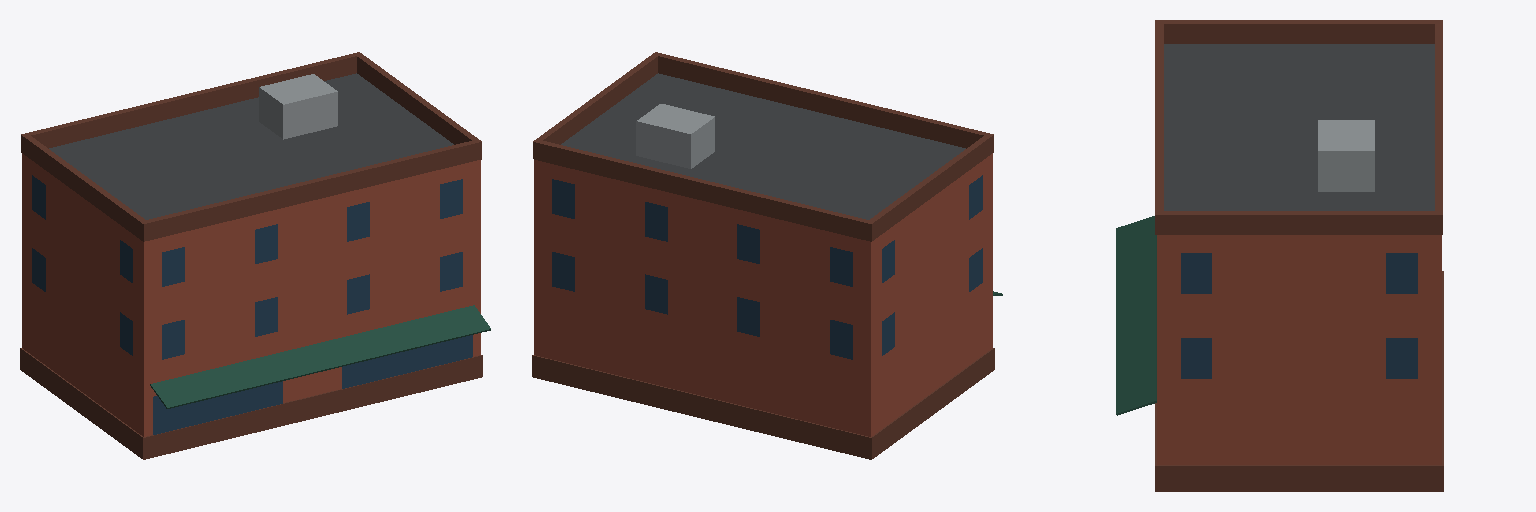
robot.urdf — building_04:
<?xml version="1.0" encoding="utf-8"?>
<!-- Generated by tools/generate_assets.py -->
<robot name="building_04">
  <link name="base_link">
    <inertial>
      <mass value="0" />
      <inertia ixx="0" ixy="0" ixz="0" iyy="0" iyz="0" izz="0" />
    </inertial>
    <visual name="part_0">
      <geometry><mesh filename="meshes/building_04_v0.obj" /></geometry>
      <material name="building_04_0"><color rgba="0.6 0.34 0.27 1" /></material>
    </visual>
    <visual name="part_1">
      <geometry><mesh filename="meshes/building_04_v1.obj" /></geometry>
      <material name="building_04_1"><color rgba="0.42 0.27 0.22 1" /></material>
    </visual>
    <visual name="part_2">
      <geometry><mesh filename="meshes/building_04_v2.obj" /></geometry>
      <material name="building_04_2"><color rgba="0.3 0.31 0.32 1" /></material>
    </visual>
    <visual name="part_3">
      <geometry><mesh filename="meshes/building_04_v3.obj" /></geometry>
      <material name="building_04_3"><color rgba="0.6 0.62 0.63 1" /></material>
    </visual>
    <visual name="part_4">
      <geometry><mesh filename="meshes/building_04_v4.obj" /></geometry>
      <material name="building_04_4"><color rgba="0.2 0.3 0.38 1" /></material>
    </visual>
    <visual name="part_5">
      <geometry><mesh filename="meshes/building_04_v5.obj" /></geometry>
      <material name="building_04_5"><color rgba="0.25 0.2 0.15 1" /></material>
    </visual>
    <visual name="part_6">
      <geometry><mesh filename="meshes/building_04_v6.obj" /></geometry>
      <material name="building_04_6"><color rgba="0.2 0.35 0.3 1" /></material>
    </visual>
    <collision name="hull_0">
      <geometry><mesh filename="meshes/building_04_c0.obj" /></geometry>
    </collision>
    <collision name="hull_1">
      <geometry><mesh filename="meshes/building_04_c1.obj" /></geometry>
    </collision>
    <collision name="hull_2">
      <geometry><mesh filename="meshes/building_04_c2.obj" /></geometry>
    </collision>
  </link>
</robot>

--- Render facts (derived) ---
The picture shows the robot from 3 angles, left to right: view 1: azimuth 30°, elevation 25°; view 2: azimuth 150°, elevation 25°; view 3: azimuth 270°, elevation 25°; orthographic projection.
Model building_04 with 1 links and 0 joints (none), rooted at base_link, posed all joints at 0.
Links seen in each view (by area): view 1: base_link; view 2: base_link; view 3: base_link.
Boxes of the visible links, x1,y1,x2,y2 form: base_link: [20, 52, 490, 459]; base_link: [532, 52, 1002, 459]; base_link: [1116, 20, 1443, 491].
Bounding box of the posed robot: 16.12 × 11.48 × 11.5 m (x, y, z).
6 mesh visuals loaded from 7 distinct referenced files (6 OBJ); not drawn: 1 (reference not matched to a file when rendering).
